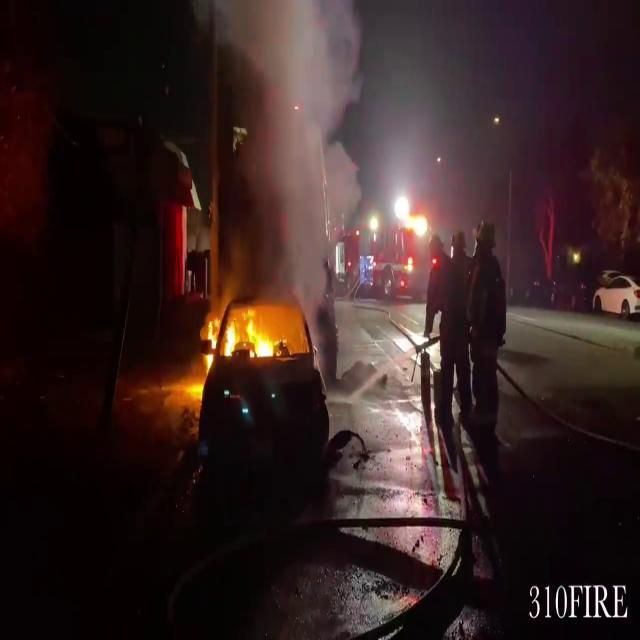Fire: (203, 298, 287, 368)
Smoke: (209, 0, 360, 309)
